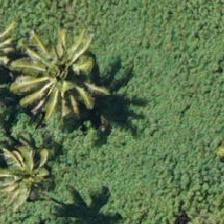coconut_tree: (10, 26, 100, 116), (0, 129, 73, 219)
